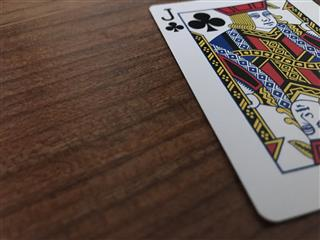JackOfClubs: (148, 1, 320, 223)
